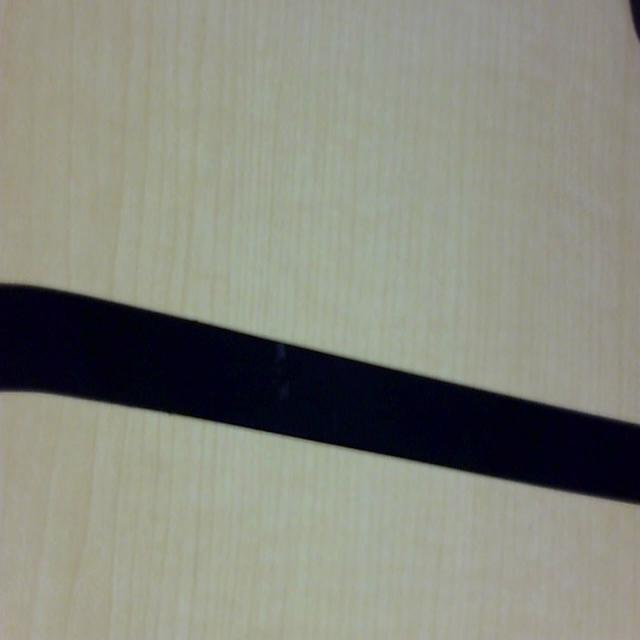tape: (0, 262, 640, 542)
